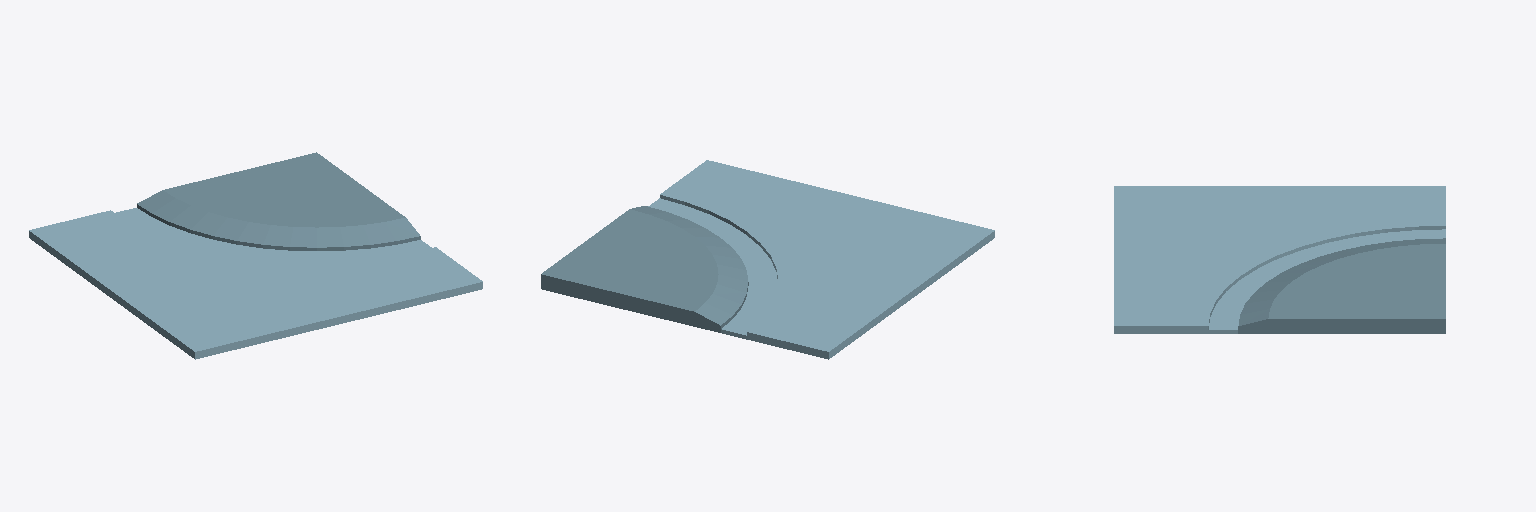
Rendered from roadCorner.obj.
3 views of the same model, side by side, from view 1: azimuth 30°, elevation 25°; view 2: azimuth 150°, elevation 25°; view 3: azimuth 270°, elevation 25° (orthographic).
Parts seen in each view (by area): view 1: roadCorner; view 2: roadCorner; view 3: roadCorner.
Part boxes in pixels (bbox=[...]): roadCorner: bbox=[29, 152, 482, 359]; roadCorner: bbox=[541, 160, 994, 359]; roadCorner: bbox=[1114, 186, 1445, 333].
Size of the model in its own units: 1 by 0.05 by 1.